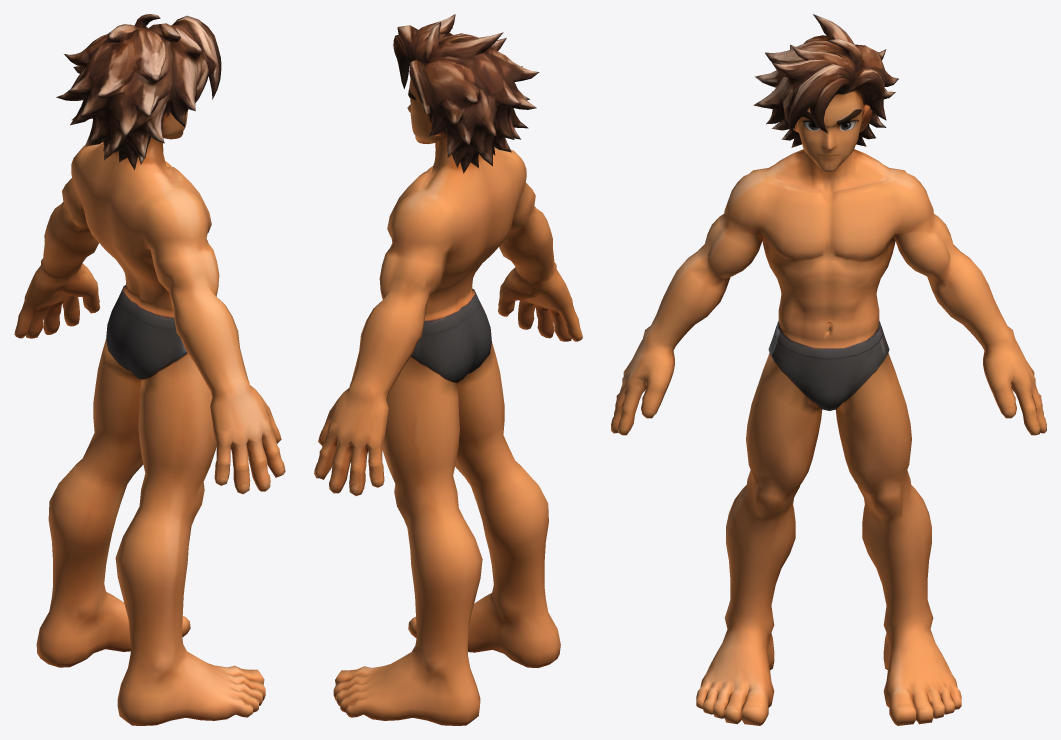
3 renders of one model, left to right at view 1: azimuth 30°, elevation 25°; view 2: azimuth 150°, elevation 25°; view 3: azimuth 270°, elevation 25°, orthographic.
Parts seen in each view (by area): view 1: tripo_node_00d35722-1b11-4140-9f3b-5b1dfbd1689b; view 2: tripo_node_00d35722-1b11-4140-9f3b-5b1dfbd1689b; view 3: tripo_node_00d35722-1b11-4140-9f3b-5b1dfbd1689b.
Part boxes in pixels (x1,y1,x2,y2): tripo_node_00d35722-1b11-4140-9f3b-5b1dfbd1689b: (14, 14, 285, 725); tripo_node_00d35722-1b11-4140-9f3b-5b1dfbd1689b: (314, 14, 582, 725); tripo_node_00d35722-1b11-4140-9f3b-5b1dfbd1689b: (611, 14, 1046, 725).
Bounding box in the file's own units: 0.2441 × 0.998 × 0.5996.
Materials: 1 (1 with a texture image).
